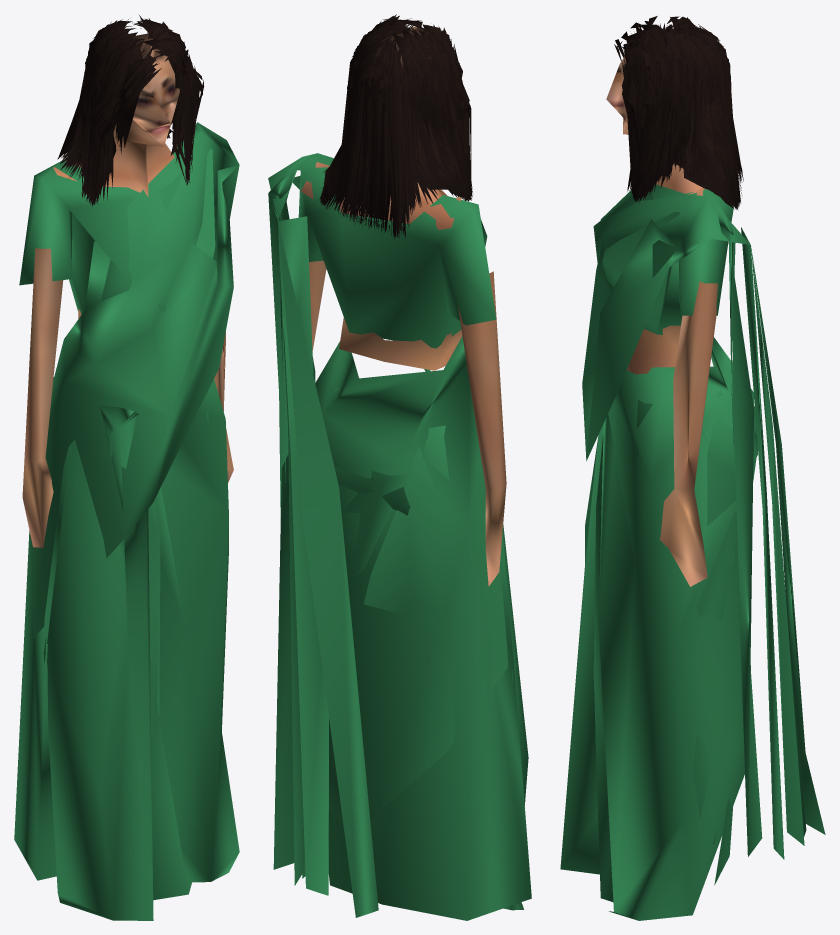
File: woman_saree_green_stand.glb
3 views of the same model, side by side, from view 1: azimuth 30°, elevation 25°; view 2: azimuth 150°, elevation 25°; view 3: azimuth 270°, elevation 25° (orthographic). The views are drawn at different scales.
Parts seen in each view (by area): view 1: geometry_0; view 2: geometry_0; view 3: geometry_0.
Boxes of the visible parts, <box> form: geometry_0: <box>14,14,239,920</box>; geometry_0: <box>268,14,531,920</box>; geometry_0: <box>560,16,825,920</box>.
Bounding box in the file's own units: 0.4287 × 1.58 × 0.4356.
Materials: 1 (1 with a texture image).
